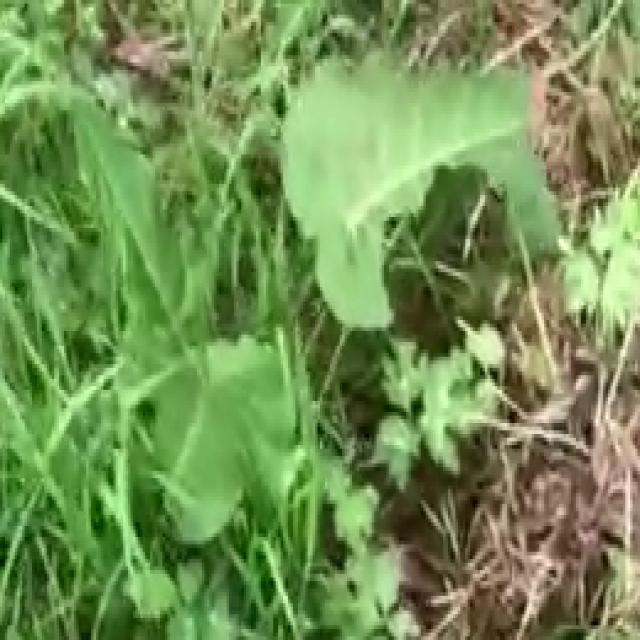organic waste: (32, 4, 603, 629)
